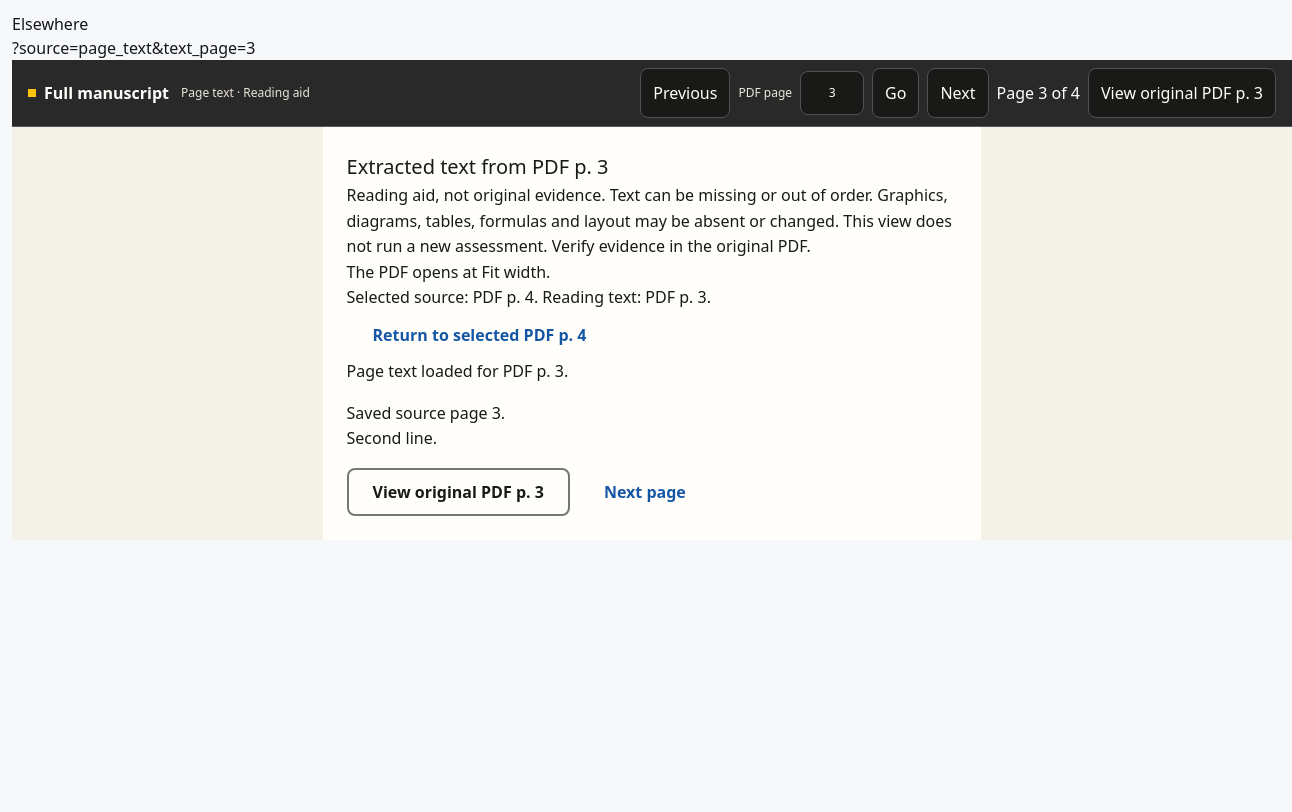
Test: Page text source and explicit focus context › invalid committed page stays at current page and does not silently clamp
Check: the text "Saved source page 3. Second line." is shown, box [346,402,505,449]
Replace the text in the field labelled "PDF page" with "4.2" at (832, 93), box [800,71,864,115]
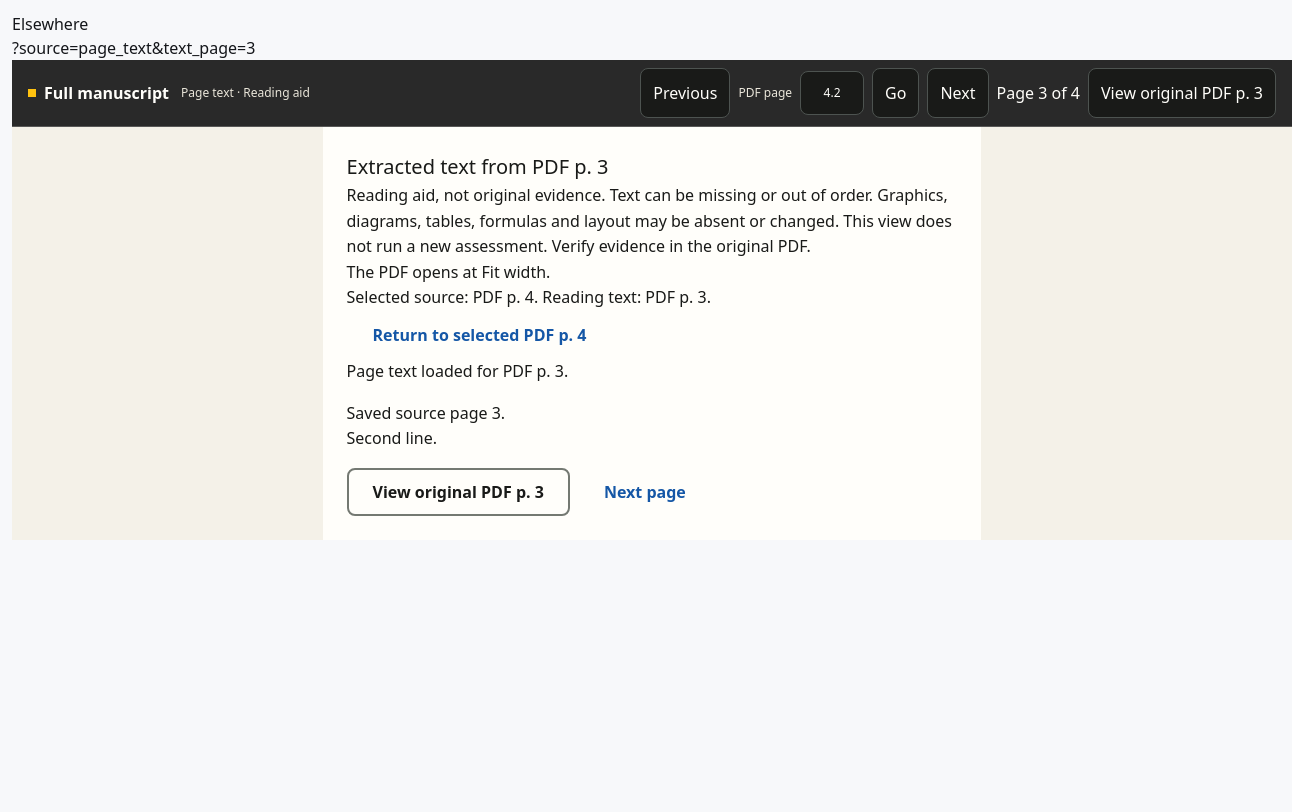
Check: the text "Choose a whole PDF page number from 1 to 4." is not shown
Click the button "Go".
click(896, 93)  # box [872,68,919,118]
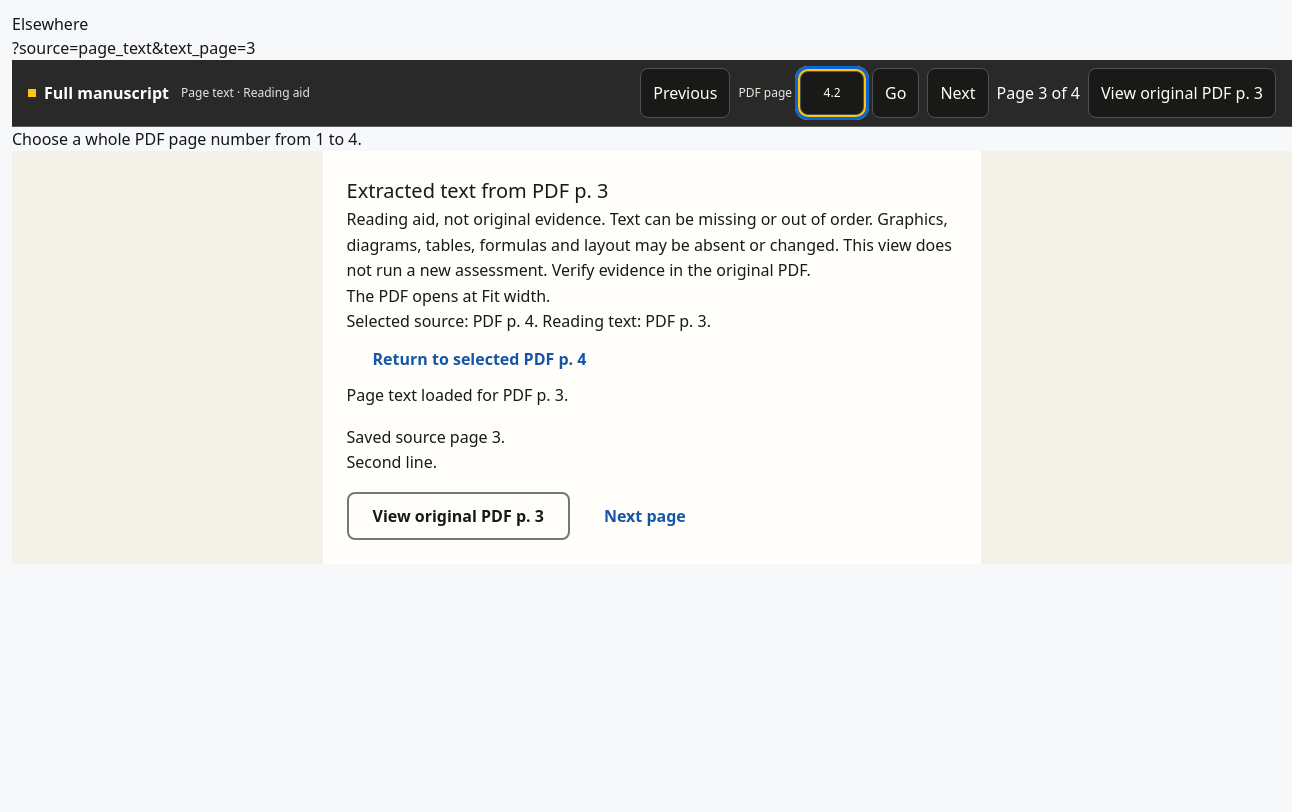
Check: the text with test id "query" shows "text_page=3", box [12,37,255,59]
Check: the text "Choose a whole PDF page number from 1 to 4." is shown, box [12,128,362,150]
